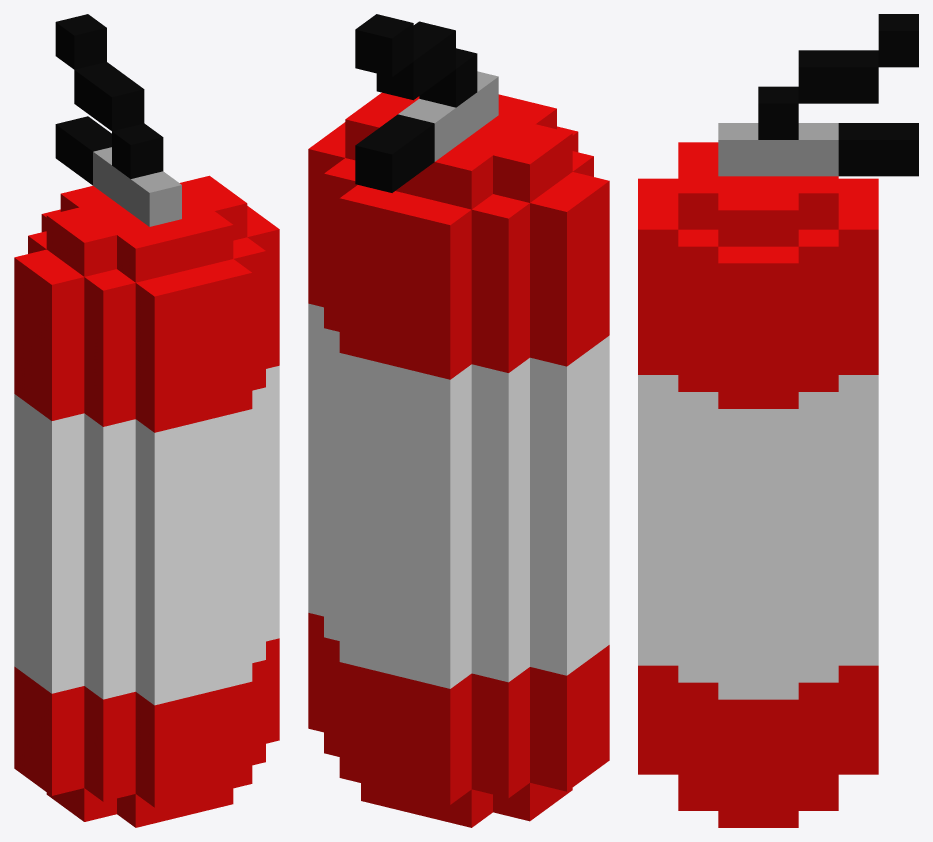
The model's file is shokaki.obj.
3 renders of one model, left to right at view 1: azimuth 30°, elevation 25°; view 2: azimuth 150°, elevation 25°; view 3: azimuth 270°, elevation 25°, orthographic. The views are drawn at different scales.
Size of the model in its own units: 0.7 by 2.1 by 0.7.
